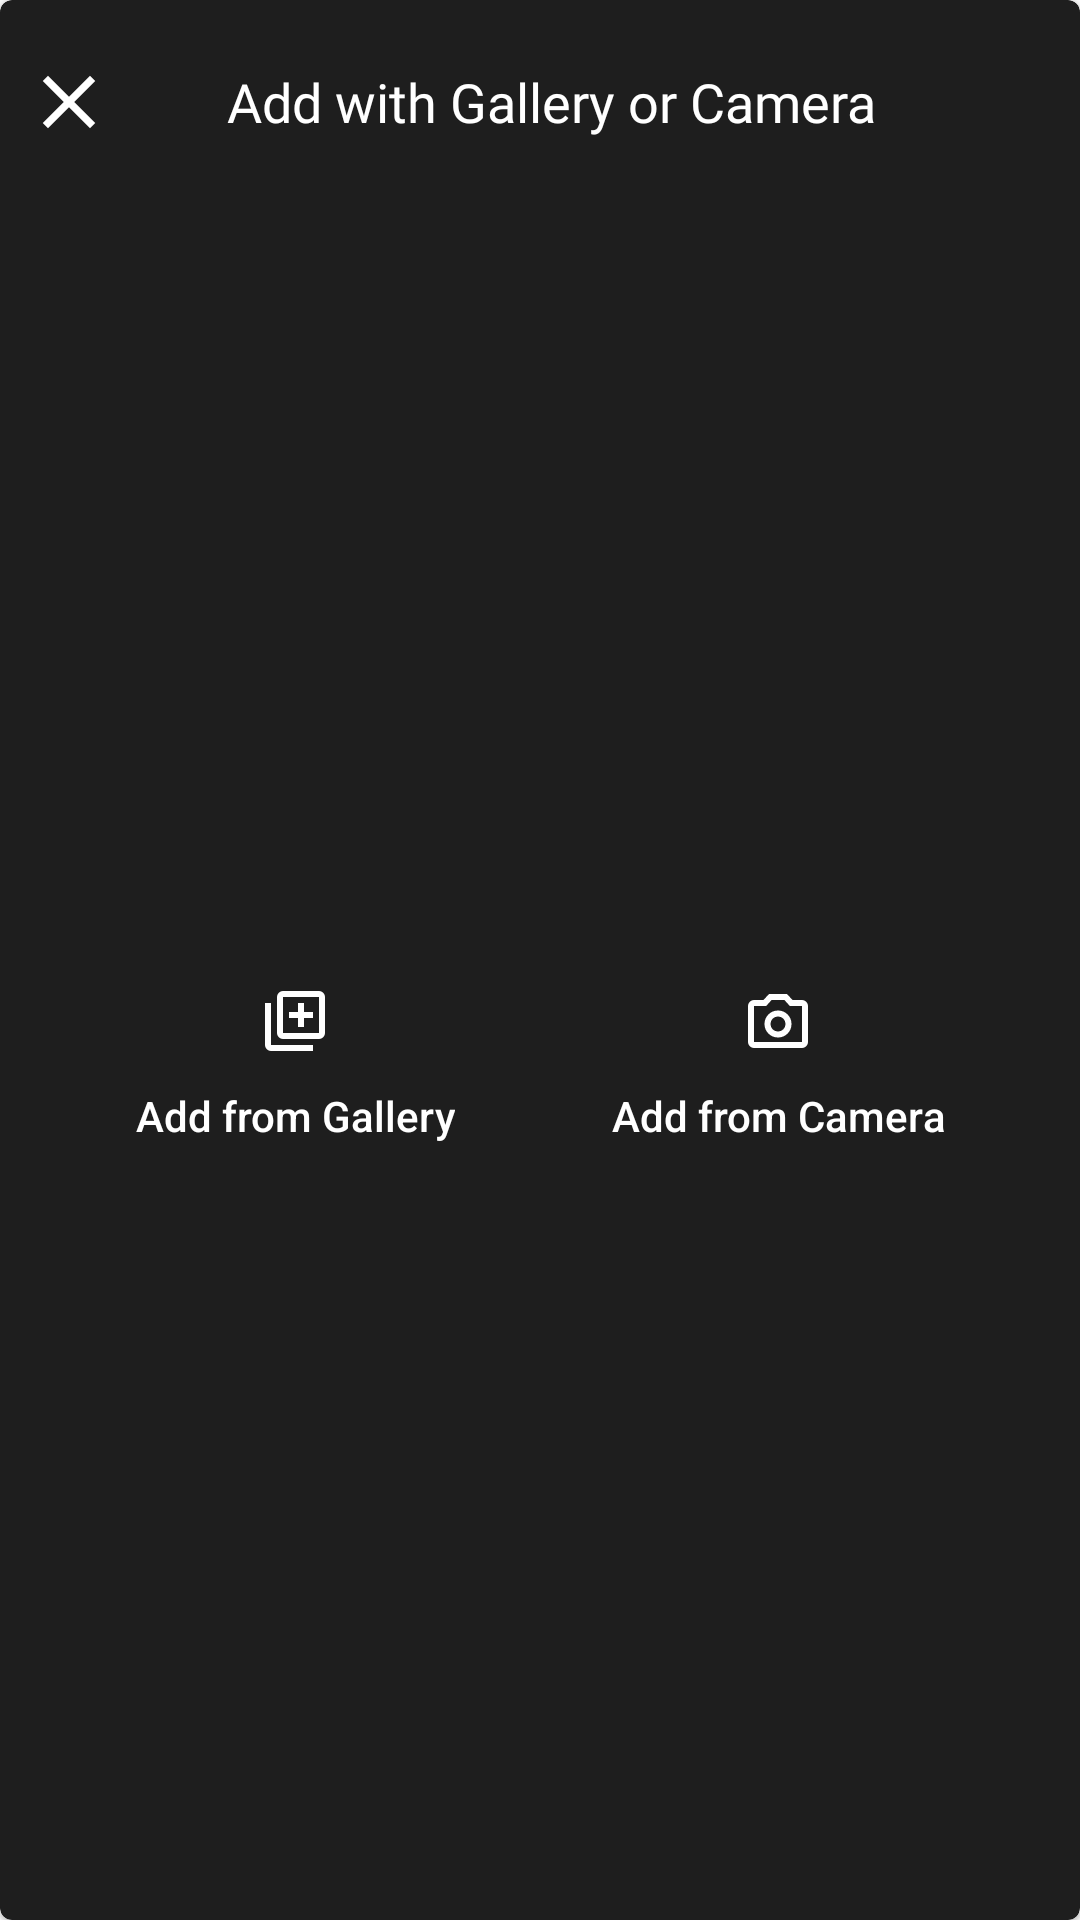

Icons on this 1080×1920 Android screen, each with its box as BBox(x1, y1, x2, y2):
close: BBox(43, 76, 95, 128)
